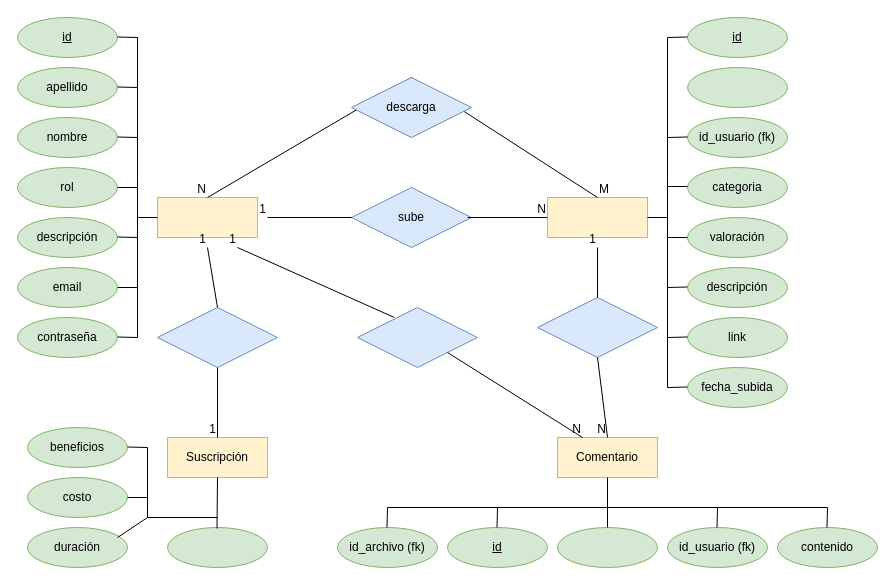
This 895x585 diagram has some shape labels left out. The centre of each missing label's shape, as x and y in pixels:
adquiere: the point at 217,337
Archivo: the point at 597,217
estado: the point at 217,547
fecha: the point at 607,547
pertenece: the point at 597,327
publica: the point at 417,337
titulo: the point at 737,87
Usuario: the point at 207,217
